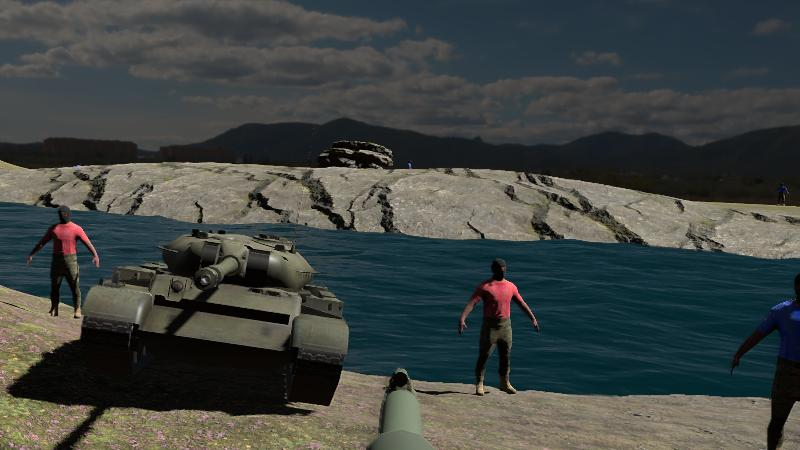Human: (730, 267, 800, 450), (460, 257, 539, 397), (28, 204, 99, 320)
Tank: (81, 231, 351, 402)
